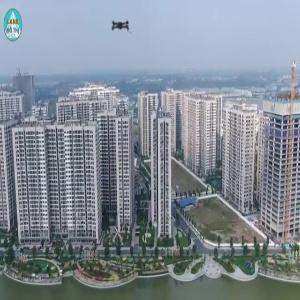drone: (97, 3, 144, 50)
